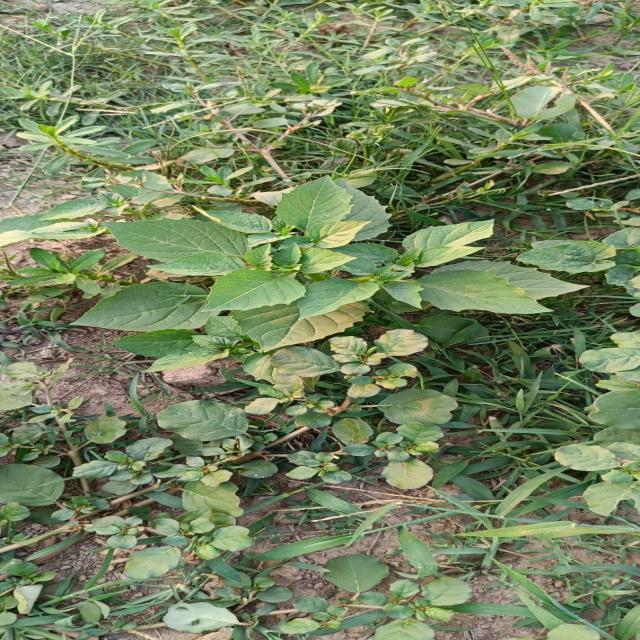plant: (73, 178, 583, 380)
